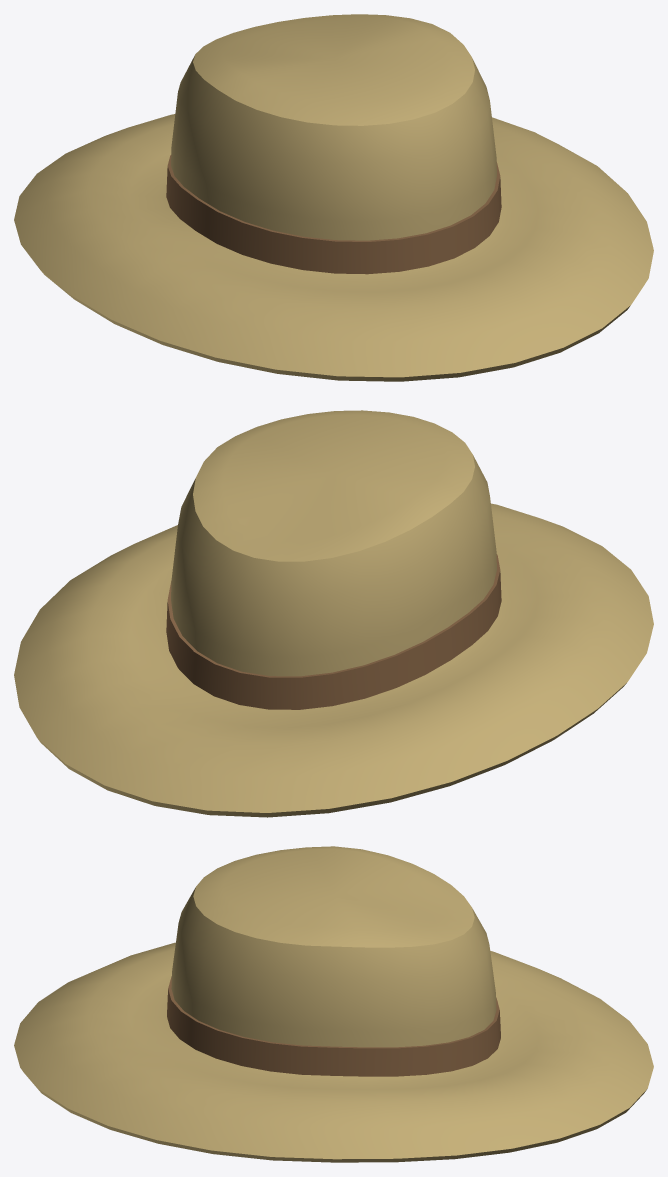
File: equipment.hat.straw.default.gltf
The picture shows the model from 3 angles, top to bottom: view 1: azimuth 30°, elevation 25°; view 2: azimuth 150°, elevation 25°; view 3: azimuth 270°, elevation 25°; orthographic projection. The views are drawn at different scales.
Visible parts, largest first — view 1: hat.straw; view 2: hat.straw; view 3: hat.straw.
Part boxes in pixels (bbox=[...]): hat.straw: bbox=[14, 14, 653, 381]; hat.straw: bbox=[14, 410, 653, 817]; hat.straw: bbox=[14, 846, 653, 1162].
Size of the model in its own units: 0.4551 by 0.1719 by 0.5423.
